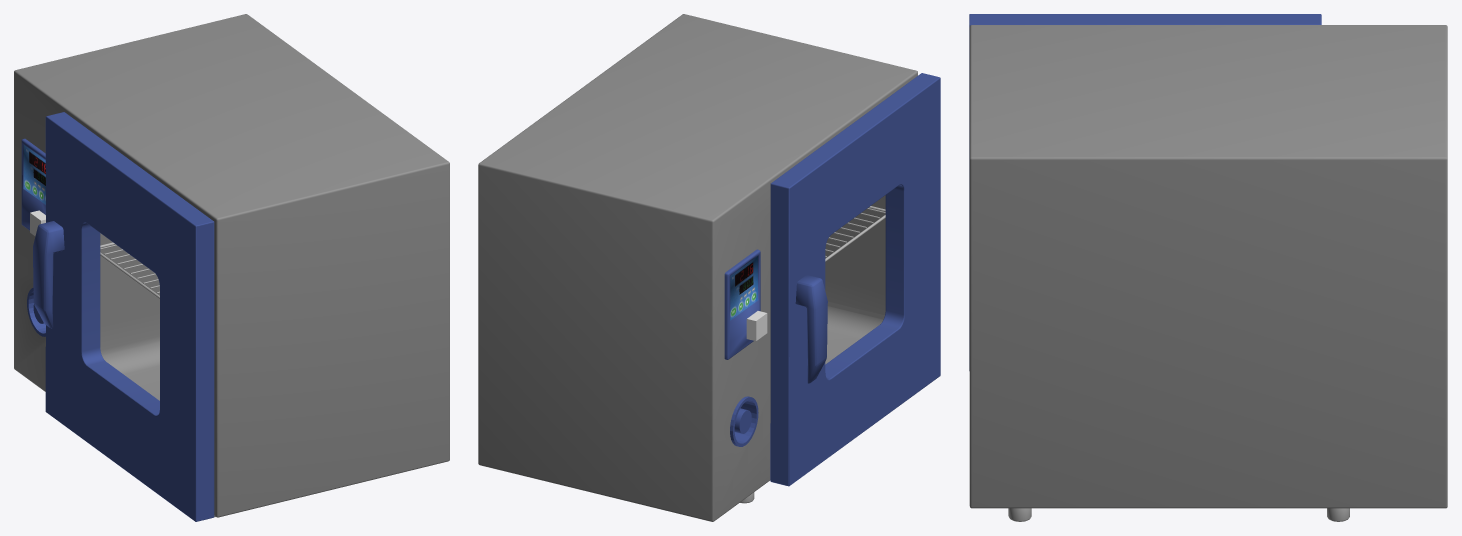
File: drying_box.glb
The picture shows the model from 3 angles, left to right: view 1: azimuth 30°, elevation 25°; view 2: azimuth 150°, elevation 25°; view 3: azimuth 270°, elevation 25°; orthographic projection. The views are drawn at different scales.
Parts seen in each view (by area): view 1: DryingBox_01, handle.003, panel.004, Group_01.001; view 2: DryingBox_01, panel.004, handle.003, Group.001, Group_01.001, button; view 3: DryingBox_01, Group_02.
Boxes of the visible parts, left/top/right/bottom form: DryingBox_01: left=14, top=14, right=449, bottom=521; handle.003: left=33, top=221, right=64, bottom=328; panel.004: left=21, top=138, right=45, bottom=230; Group_01.001: left=100, top=242, right=159, bottom=298; DryingBox_01: left=478, top=14, right=940, bottom=521; panel.004: left=724, top=249, right=760, bottom=359; handle.003: left=795, top=275, right=827, bottom=383; Group.001: left=730, top=396, right=758, bottom=446; Group_01.001: left=825, top=206, right=885, bottom=261; button: left=746, top=311, right=767, bottom=340; DryingBox_01: left=969, top=14, right=1447, bottom=508; Group_02: left=1008, top=508, right=1349, bottom=521.
Size of the model in its own units: 0.5764 by 0.63 by 0.7409.
4 materials, 2 textured.
